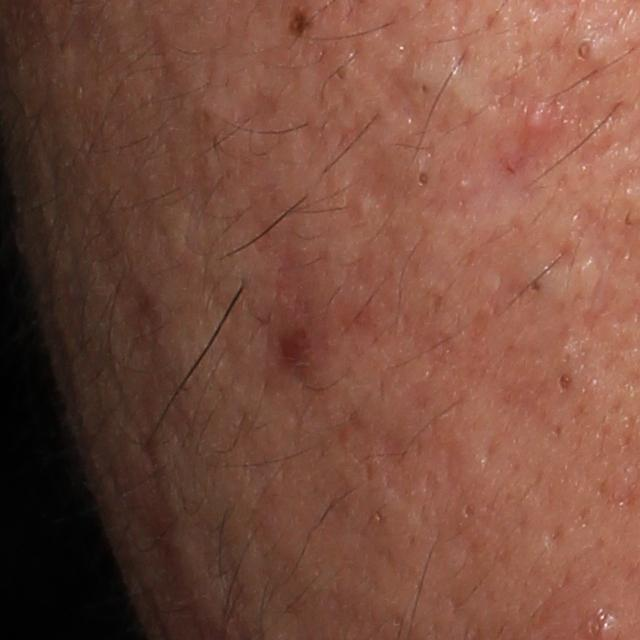atrophic_scar: (342, 4, 442, 130), (339, 131, 399, 230), (232, 90, 283, 132)
comedo: (508, 251, 566, 313), (564, 22, 616, 75), (552, 367, 579, 395), (456, 500, 479, 523), (413, 165, 433, 191)
nevus: (285, 3, 316, 42)
papule: (522, 95, 562, 150)
